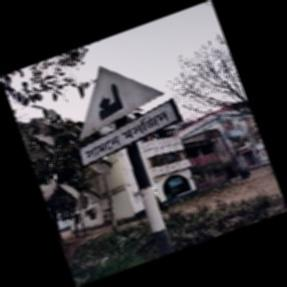Mosque in front: (79, 64, 182, 167)
